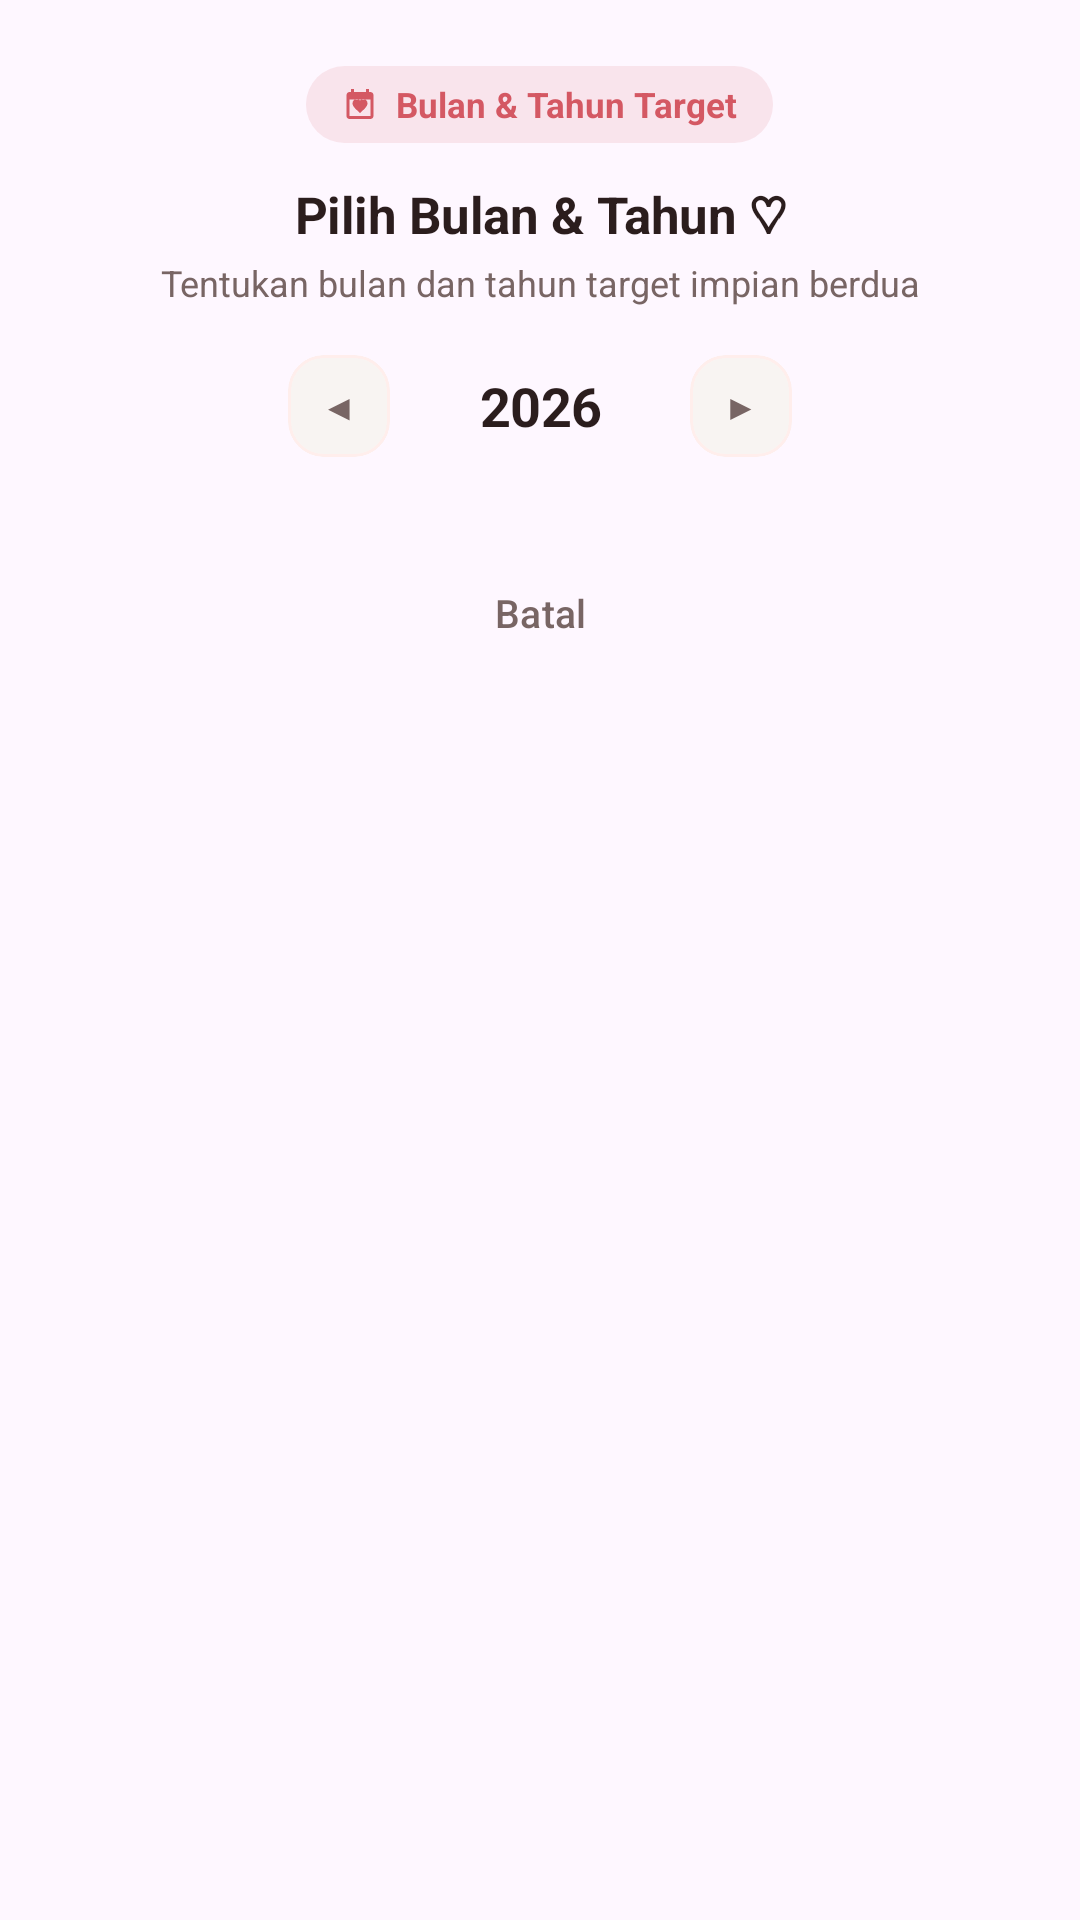

Screen size 1080×1920. Icon name, then its center in pixels as (x,y):
calendar heart: (360,104)
